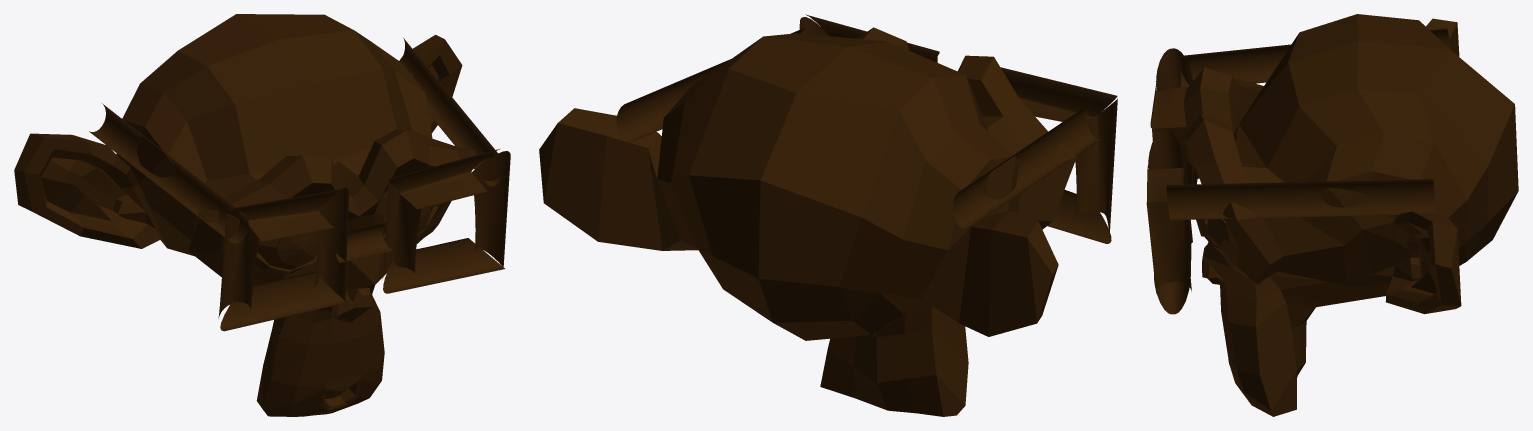
3 renders of one model, left to right at view 1: azimuth 30°, elevation 25°; view 2: azimuth 150°, elevation 25°; view 3: azimuth 270°, elevation 25°, orthographic. The views are drawn at different scales.
Parts seen in each view (by area): view 1: Monkey, Surface; view 2: Monkey, Surface; view 3: Monkey, Surface.
Boxes of the visible parts, left/top/right/bottom form: Monkey: left=14, top=14, right=475, bottom=416; Surface: left=89, top=38, right=510, bottom=331; Monkey: left=539, top=27, right=1076, bottom=416; Surface: left=616, top=14, right=1117, bottom=243; Monkey: left=1183, top=14, right=1518, bottom=416; Surface: left=1146, top=28, right=1449, bottom=314.
Bounding box in the file's own units: 2.73 × 2.02 × 1.91.
